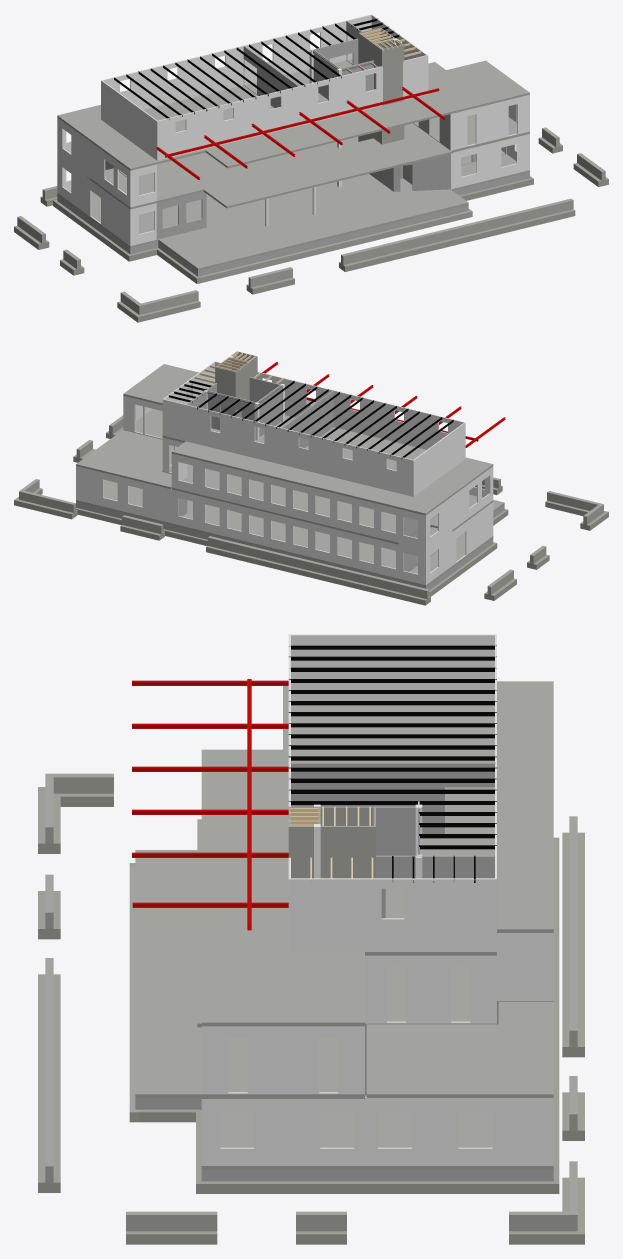
The model's file is 02_BIMcollab_Example_STR_optimized.glb.
The picture shows the model from 3 angles, top to bottom: view 1: azimuth 30°, elevation 25°; view 2: azimuth 150°, elevation 25°; view 3: azimuth 270°, elevation 25°; orthographic projection. The views are drawn at different scales.
Visible parts, largest first — view 1: 3cxgMcsC2OIvi3TYtxx1z8, 2msEhSCQdWHvct_Utq_sY8, 3_9891X4JVHAG_cYn2tf9u, 2bXUpgcvJoHutIc7vy_Ovl, 1x5ldlpZxyIhvO92Q8ApcG, 22kE1JaiptGwIdE6c9rtSv, 1xHjcLFhXnHe7prYcRHcy6, 3500DDghuxJP$Mg2u6owp0, 2ZjJnZz0CFHfr$2NVw5yxI, 3iYI9CiClPHxdV2301tkPG, 35bS7Kxf$HIwuPuNTdrErc, 1YVdnMQU42IAD1uh1jV1w8 (+25 smaller); view 2: 1x5ldlpZxyIhvO92Q8ApcG, 2msEhSCQdWHvct_Utq_sY8, 11qE6CMplBHQf1P5yy_Ygs, 1eFN2nXEjfGPE9RIOfLdDM, 3cxgMcsC2OIvi3TYtxx1z8, 2bXUpgcvJoHutIc7vy_Ovl, 3_9891X4JVHAG_cYn2tf9u, 2vErM7B9WwGPuSa3L_XV6s, 2SieS4DTWZJ9qw1wt4LQ8B, 3iYI9CiClPHxdV2301tkPG, 2ZjJnZz0CFHfr$2NVw5yxI, 1yusNPBG$PIe2YJD1GeUq1 (+21 smaller); view 3: 2msEhSCQdWHvct_Utq_sY8, 3cxgMcsC2OIvi3TYtxx1z8, 2vErM7B9WwGPuSa3L_XV6s, 3ef_qCGDDqIBgZ$wP7mXqy, 3iYI9CiClPHxdV2301tkPG, 2hrIhmBFlGJgxA8Fqj1660, 1OZLm2wbEWHQBIFJPbJgIH, 2YgousDfFMIudPvW7hLqEJ, 2QCuly27ZXHANCxc_hTSMx, 13AEDxFEeLI800iHeqDPIu, 2nPzy$nl69JO_we$28cpHq, 2gLCA2TSbgHuBOj4uFC5j2 (+42 smaller).
Boxes of the visible parts, x1=… form: 3cxgMcsC2OIvi3TYtxx1z8: x1=57, y1=136, x2=529, y2=270; 2msEhSCQdWHvct_Utq_sY8: x1=57, y1=59, x2=529, y2=170; 3_9891X4JVHAG_cYn2tf9u: x1=86, y1=123, x2=452, y2=209; 2bXUpgcvJoHutIc7vy_Ovl: x1=157, y1=66, x2=382, y2=160; 1x5ldlpZxyIhvO92Q8ApcG: x1=102, y1=14, x2=371, y2=109; 22kE1JaiptGwIdE6c9rtSv: x1=341, y1=198, x2=573, y2=265; 1xHjcLFhXnHe7prYcRHcy6: x1=450, y1=95, x2=529, y2=150; 3500DDghuxJP$Mg2u6owp0: x1=451, y1=134, x2=529, y2=189; 2ZjJnZz0CFHfr$2NVw5yxI: x1=57, y1=117, x2=130, y2=206; 3iYI9CiClPHxdV2301tkPG: x1=101, y1=80, x2=157, y2=160; 35bS7Kxf$HIwuPuNTdrErc: x1=200, y1=209, x2=472, y2=282; 1YVdnMQU42IAD1uh1jV1w8: x1=339, y1=209, x2=575, y2=271; 1x5ldlpZxyIhvO92Q8ApcG: x1=163, y1=399, x2=413, y2=496; 2msEhSCQdWHvct_Utq_sY8: x1=123, y1=364, x2=493, y2=515; 11qE6CMplBHQf1P5yy_Ygs: x1=76, y1=466, x2=398, y2=578; 1eFN2nXEjfGPE9RIOfLdDM: x1=171, y1=453, x2=425, y2=549; 3cxgMcsC2OIvi3TYtxx1z8: x1=76, y1=480, x2=504, y2=586; 2bXUpgcvJoHutIc7vy_Ovl: x1=257, y1=371, x2=464, y2=449; 3_9891X4JVHAG_cYn2tf9u: x1=163, y1=464, x2=493, y2=544; 2vErM7B9WwGPuSa3L_XV6s: x1=76, y1=430, x2=173, y2=488; 2SieS4DTWZJ9qw1wt4LQ8B: x1=207, y1=536, x2=429, y2=598; 3iYI9CiClPHxdV2301tkPG: x1=413, y1=422, x2=465, y2=496; 2ZjJnZz0CFHfr$2NVw5yxI: x1=426, y1=466, x2=493, y2=548; 1yusNPBG$PIe2YJD1GeUq1: x1=206, y1=546, x2=430, y2=605; 2msEhSCQdWHvct_Utq_sY8: x1=201, y1=681, x2=553, y2=1026; 3cxgMcsC2OIvi3TYtxx1z8: x1=135, y1=850, x2=553, y2=1169; 2vErM7B9WwGPuSa3L_XV6s: x1=366, y1=1001, x2=553, y2=1097; 3ef_qCGDDqIBgZ$wP7mXqy: x1=288, y1=878, x2=496, y2=951; 3iYI9CiClPHxdV2301tkPG: x1=289, y1=634, x2=496, y2=707; 2hrIhmBFlGJgxA8Fqj1660: x1=365, y1=1097, x2=553, y2=1165; 1OZLm2wbEWHQBIFJPbJgIH: x1=201, y1=1026, x2=364, y2=1094; 2YgousDfFMIudPvW7hLqEJ: x1=201, y1=1099, x2=364, y2=1165; 2QCuly27ZXHANCxc_hTSMx: x1=365, y1=955, x2=496, y2=1023; 13AEDxFEeLI800iHeqDPIu: x1=290, y1=762, x2=495, y2=833; 2nPzy$nl69JO_we$28cpHq: x1=201, y1=1169, x2=553, y2=1181; 2gLCA2TSbgHuBOj4uFC5j2: x1=201, y1=1181, x2=550, y2=1193.
Size of the model in its own units: 46.84 by 13.3 by 24.2.
